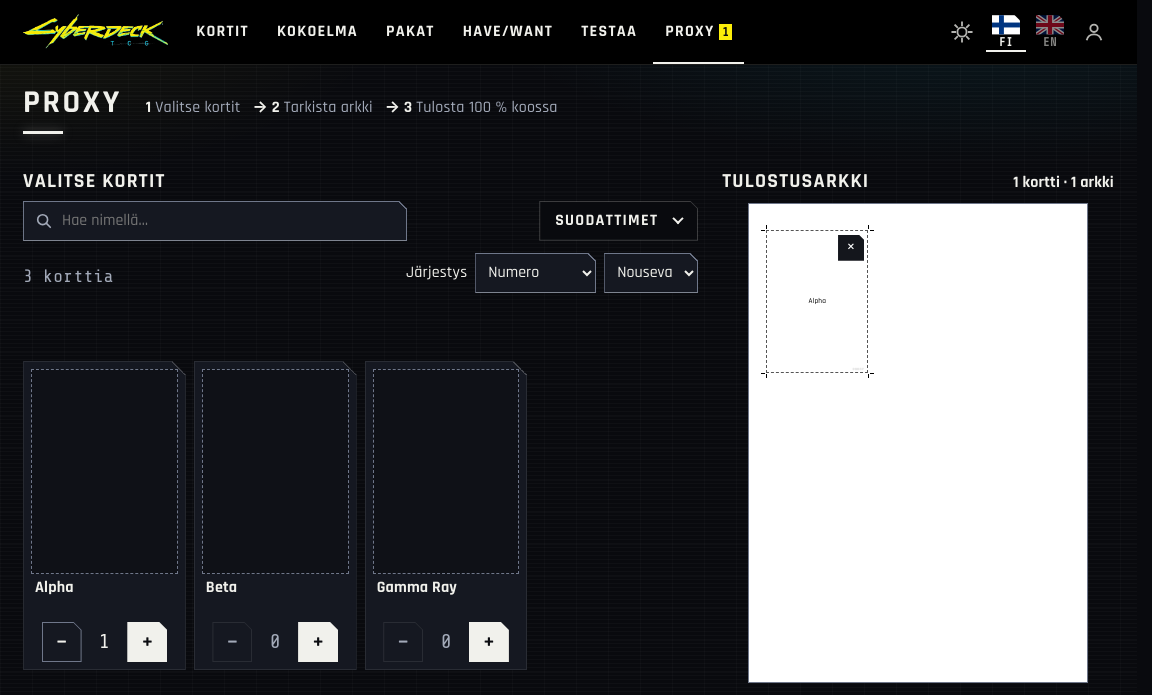
it: Proxy section (T-102) › removes a card from the queue with minus
Check: the text "1 kortti · 1 arkki" is shown, box [1013,172,1114,193]
Click the button named "Poista jonosta yksi kappale: Alpha".
click(62, 642)  # box [42,622,82,662]
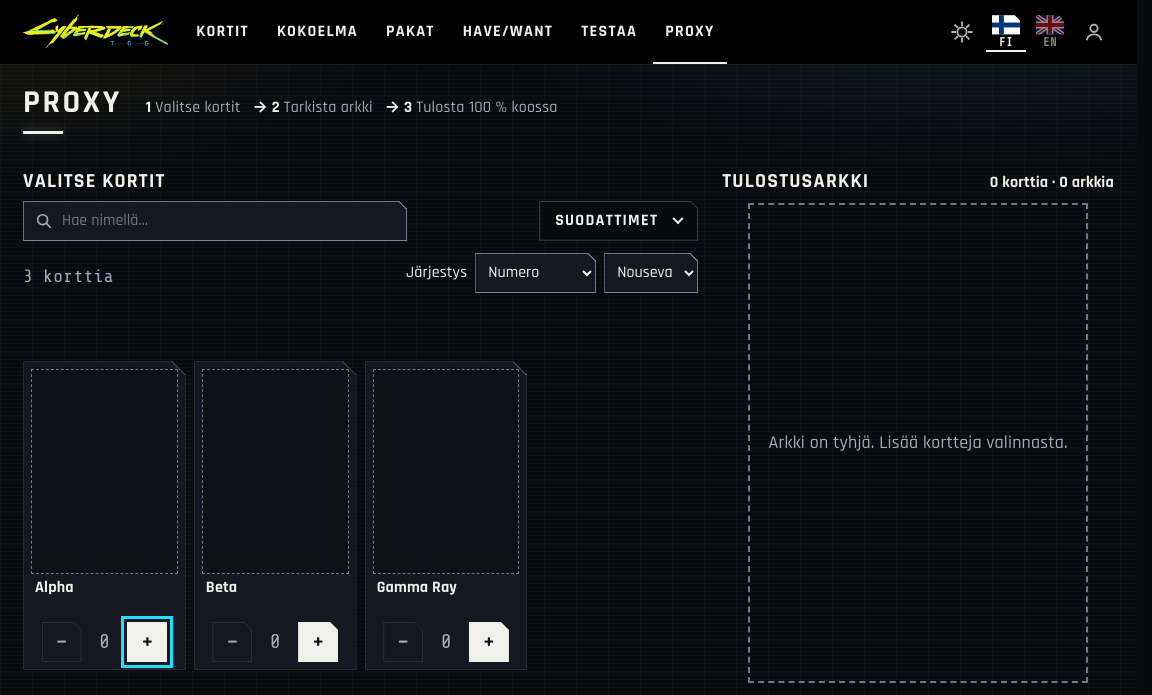
Check: the text "0 korttia · 0 arkkia" is shown, box [990,172,1114,193]
